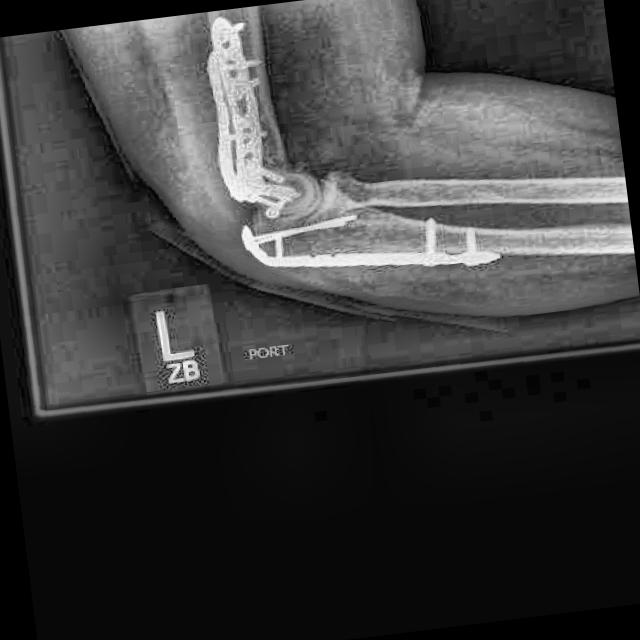elbow positive: (261, 209, 353, 269), (247, 139, 320, 177)
